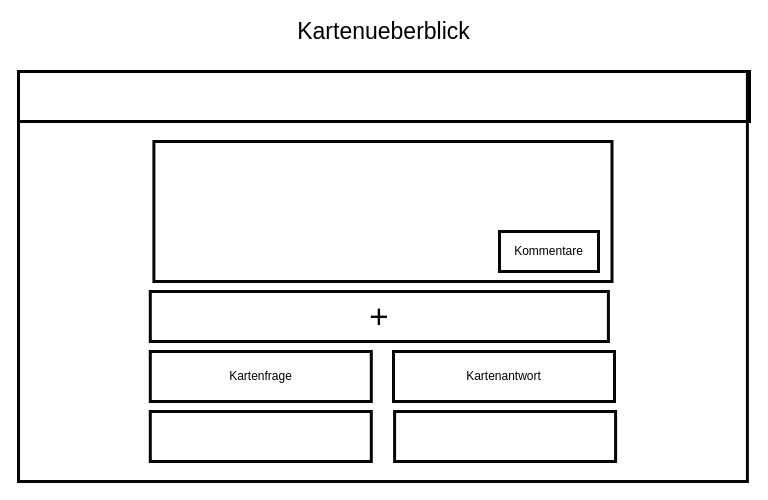
This 768x500 diagram has some shape labels left out. Here are the shapes that lost their labels. From the top down, the box of each, then its label:
(16, 70, 750, 122): Header
(152, 140, 613, 282): Deckinfo
